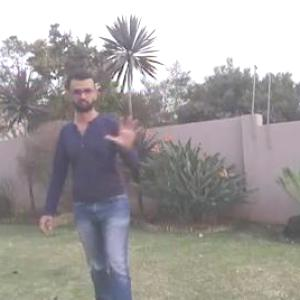follow_hand: (101, 111, 144, 151)
